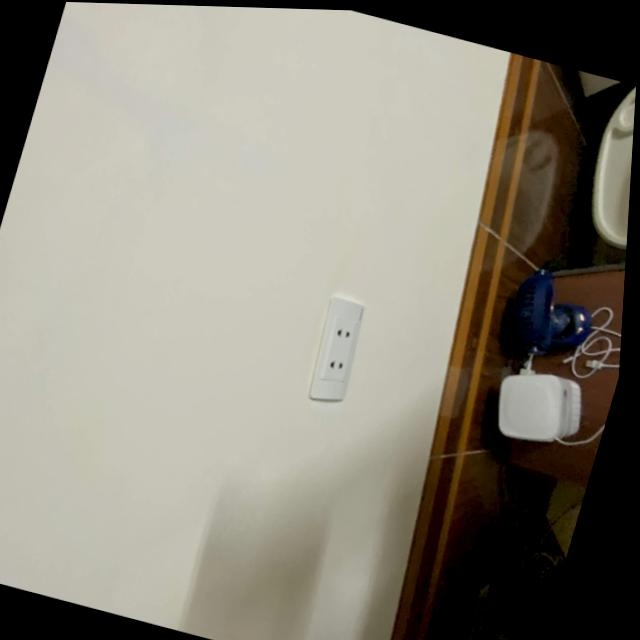outlet: (300, 293, 371, 407)
